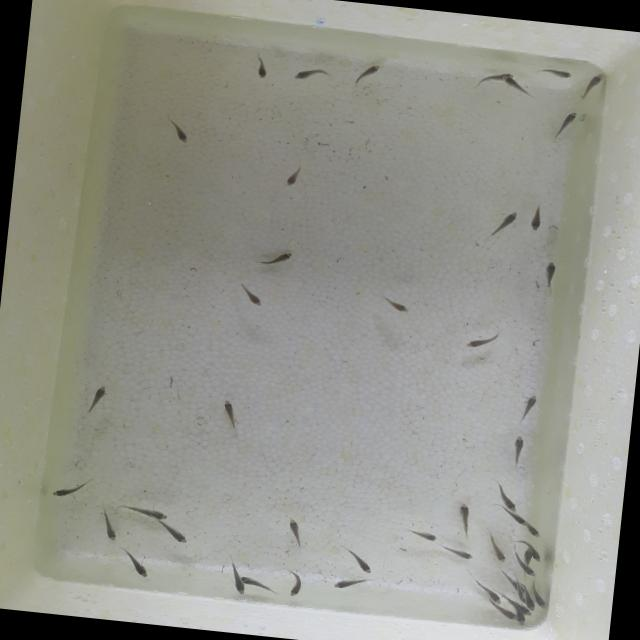fingerling: (49, 475, 88, 501), (165, 114, 192, 149), (331, 573, 377, 593), (470, 68, 518, 87), (576, 67, 606, 97), (554, 106, 582, 138), (494, 479, 522, 510), (152, 522, 190, 544), (463, 331, 501, 353), (280, 159, 304, 192), (125, 550, 152, 578), (346, 548, 375, 574), (262, 248, 294, 270), (491, 208, 518, 234), (238, 278, 265, 304), (402, 522, 441, 540), (217, 396, 240, 426), (288, 66, 326, 84), (227, 568, 249, 598), (520, 520, 550, 542), (488, 541, 512, 568), (488, 602, 520, 622), (501, 74, 532, 94), (286, 570, 306, 600), (454, 499, 472, 532), (356, 61, 382, 82), (100, 512, 118, 542), (440, 546, 478, 560), (88, 384, 110, 408), (382, 297, 413, 314), (284, 518, 304, 542), (478, 584, 503, 602), (521, 586, 537, 614), (137, 507, 171, 520), (521, 392, 539, 416), (538, 68, 572, 80), (532, 541, 548, 566), (252, 58, 270, 80), (244, 578, 274, 591), (532, 588, 548, 612), (512, 433, 526, 460), (528, 206, 542, 233), (514, 562, 539, 577), (541, 260, 558, 282), (511, 514, 529, 528)
